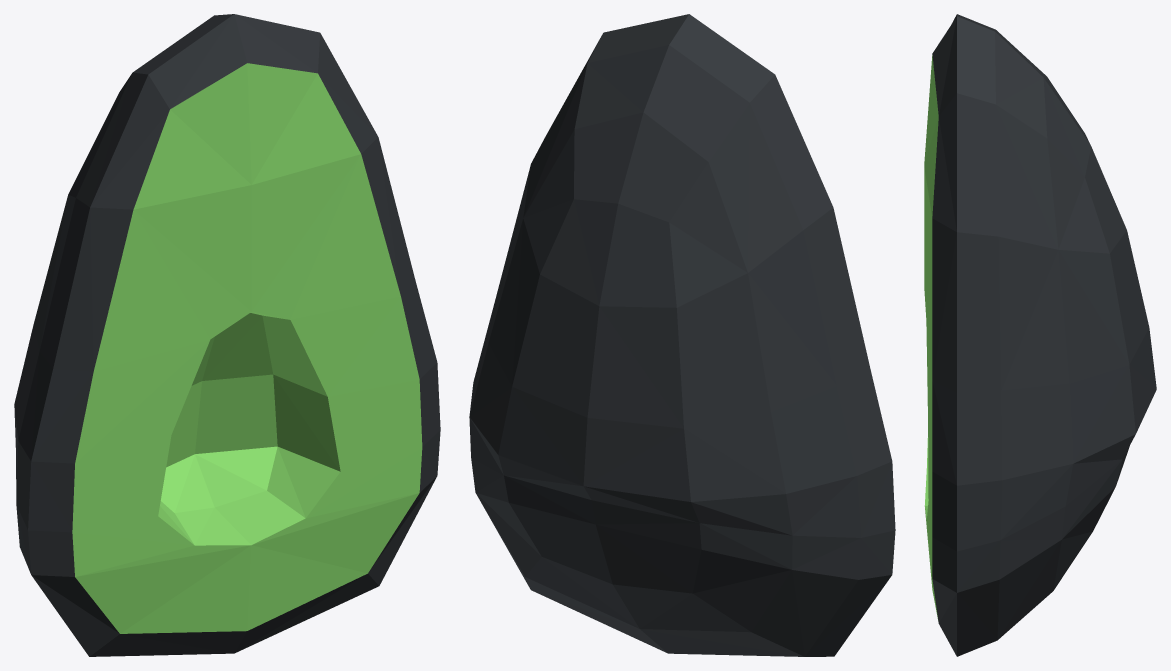
The model's file is Avocado_Empty.obj.
3 views of the same model, side by side, from view 1: azimuth 30°, elevation 25°; view 2: azimuth 150°, elevation 25°; view 3: azimuth 270°, elevation 25° (orthographic). The views are drawn at different scales.
Visible parts, largest first — view 1: Avocado_Empty_PaleGreen, Avocado_Empty_DarkGrey; view 2: Avocado_Empty_DarkGrey; view 3: Avocado_Empty_DarkGrey, Avocado_Empty_PaleGreen.
Boxes of the visible parts, x1,y1,x2,y2 form: Avocado_Empty_PaleGreen: (72,63,422,633); Avocado_Empty_DarkGrey: (14,14,440,656); Avocado_Empty_DarkGrey: (469,14,895,656); Avocado_Empty_DarkGrey: (932,14,1156,656); Avocado_Empty_PaleGreen: (924,55,938,620).
Size of the model in its own units: 0.7384 by 1.09 by 0.3818.
